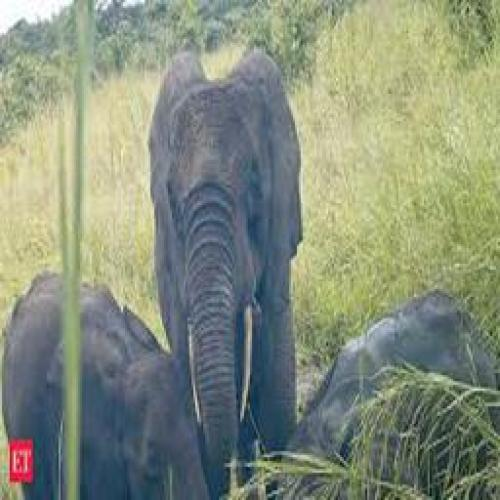african_elephant-endangered: (151, 60, 300, 477), (22, 274, 194, 500)
